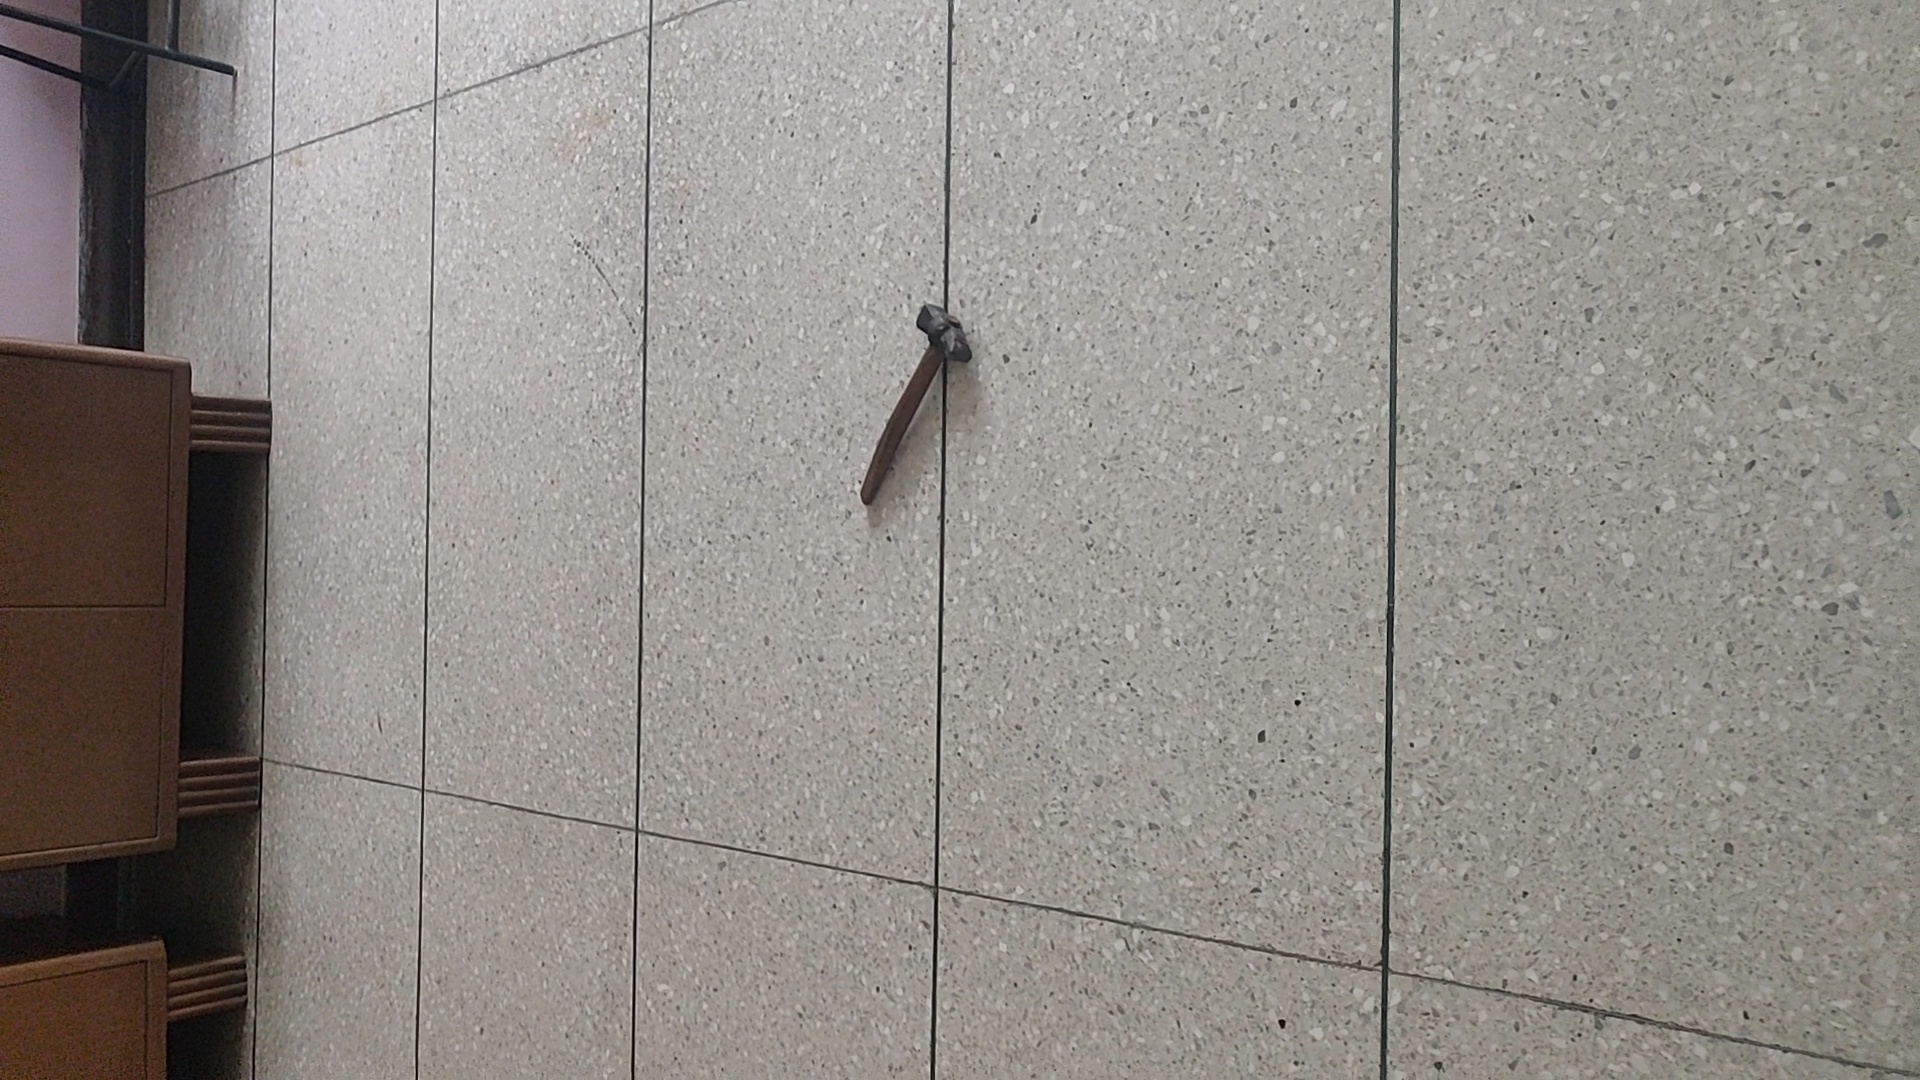hammer: (857, 301, 971, 508)
